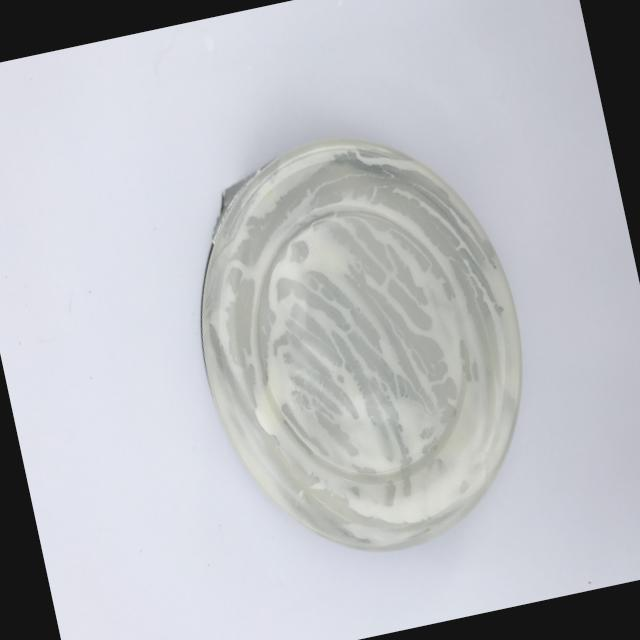Plastic: (144, 88, 580, 608)
